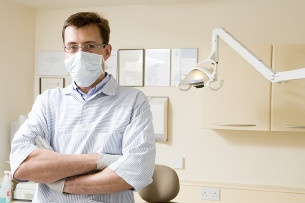Mask: (62, 39, 104, 81)
